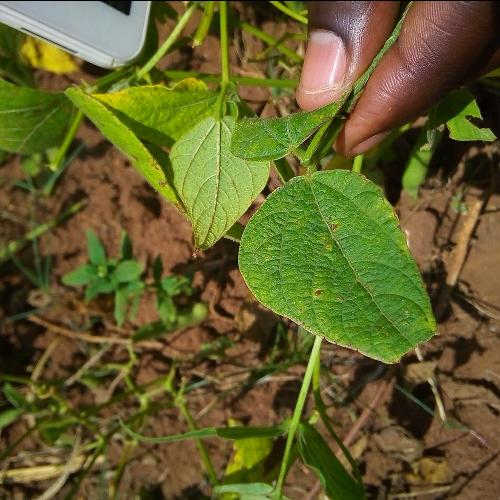hawar: (318, 218, 345, 254), (300, 280, 332, 301)
